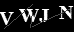J: (38, 8, 50, 22)
N: (57, 5, 74, 19)
V: (1, 11, 14, 25)
W: (17, 8, 40, 23)
